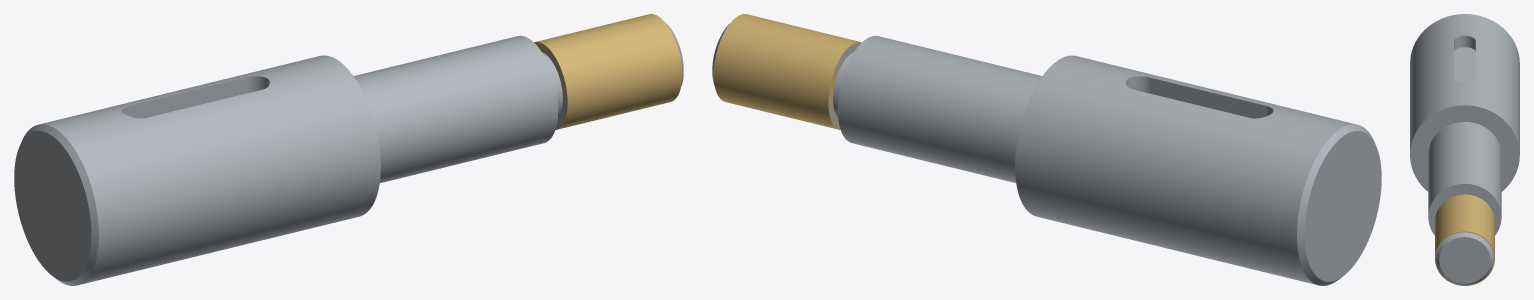
The model's file is step_06.glb.
The picture shows the model from 3 angles, left to right: view 1: azimuth 30°, elevation 25°; view 2: azimuth 150°, elevation 25°; view 3: azimuth 270°, elevation 25°; orthographic projection. The views are drawn at different scales.
Visible parts, largest first — view 1: part__threaded shaft, overlay; view 2: part__threaded shaft, overlay; view 3: part__threaded shaft, overlay.
Boxes of the visible parts, <box> form: part__threaded shaft: <box>14,23,683,285</box>; overlay: <box>534,14,682,129</box>; part__threaded shaft: <box>712,23,1381,285</box>; overlay: <box>713,14,861,129</box>; part__threaded shaft: <box>1410,14,1519,285</box>; overlay: <box>1435,194,1494,285</box>.
Bounding box in the file's own units: 128 × 30 × 29.98.
